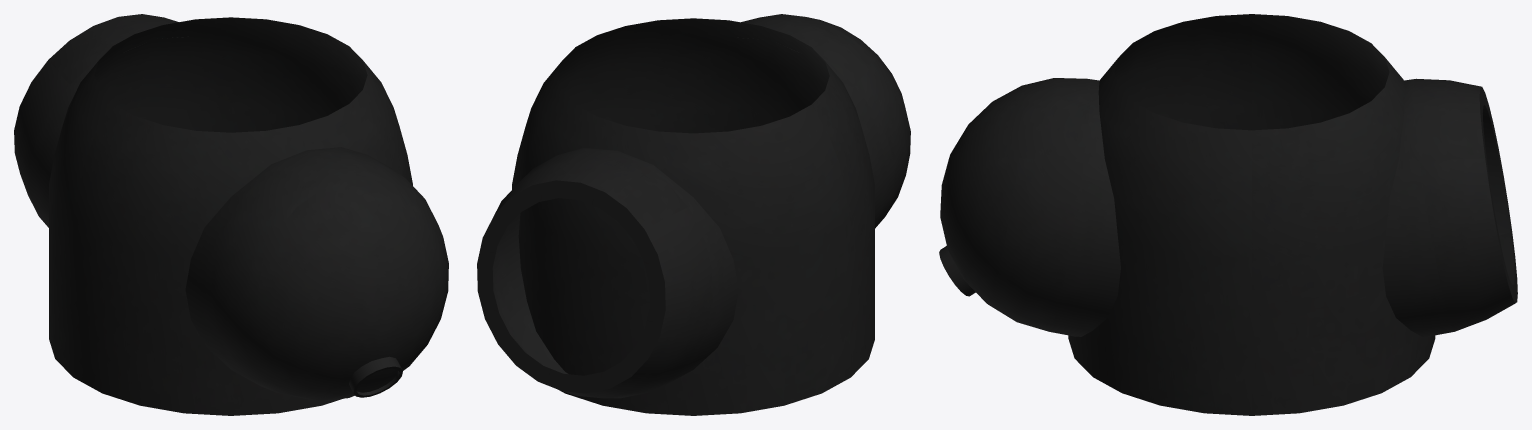
Rendered from vega_crew_s1_3.obj.
3 renders of one model, left to right at view 1: azimuth 30°, elevation 25°; view 2: azimuth 150°, elevation 25°; view 3: azimuth 270°, elevation 25°, orthographic.
Visible parts, largest first — view 1: 1, w1; view 2: 1; view 3: 1.
Boxes of the visible parts, <box> form: 1: <box>14,14,448,415</box>; w1: <box>357,368,397,392</box>; 1: <box>477,14,910,415</box>; 1: <box>939,14,1517,415</box>.
Bounding box in the file's own units: 1.25 × 1 × 1.97.
